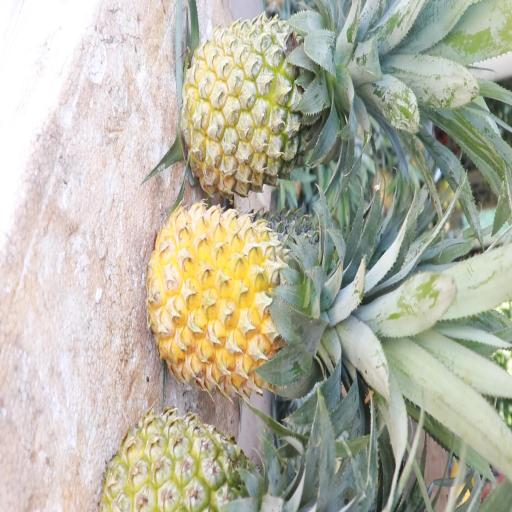------------------------------: (182, 15, 328, 197), (109, 417, 263, 512)
Pineapple - v8 v1: (151, 197, 331, 395)
